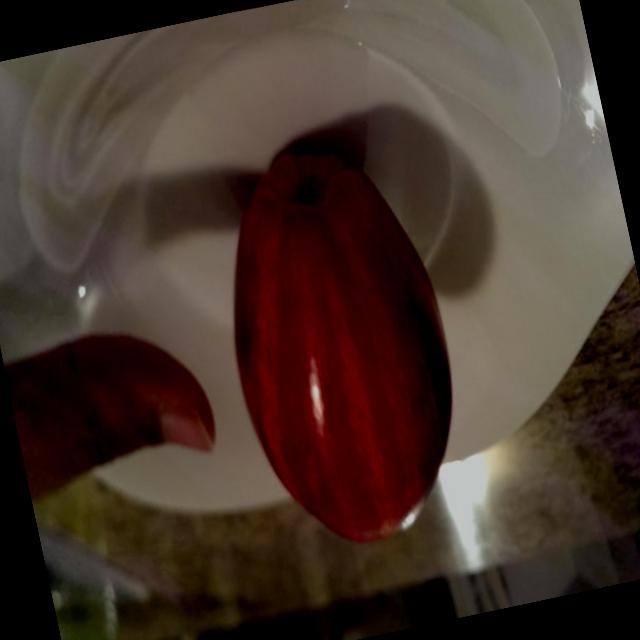Apple: (176, 110, 504, 576)
Finger: (44, 295, 230, 487)
